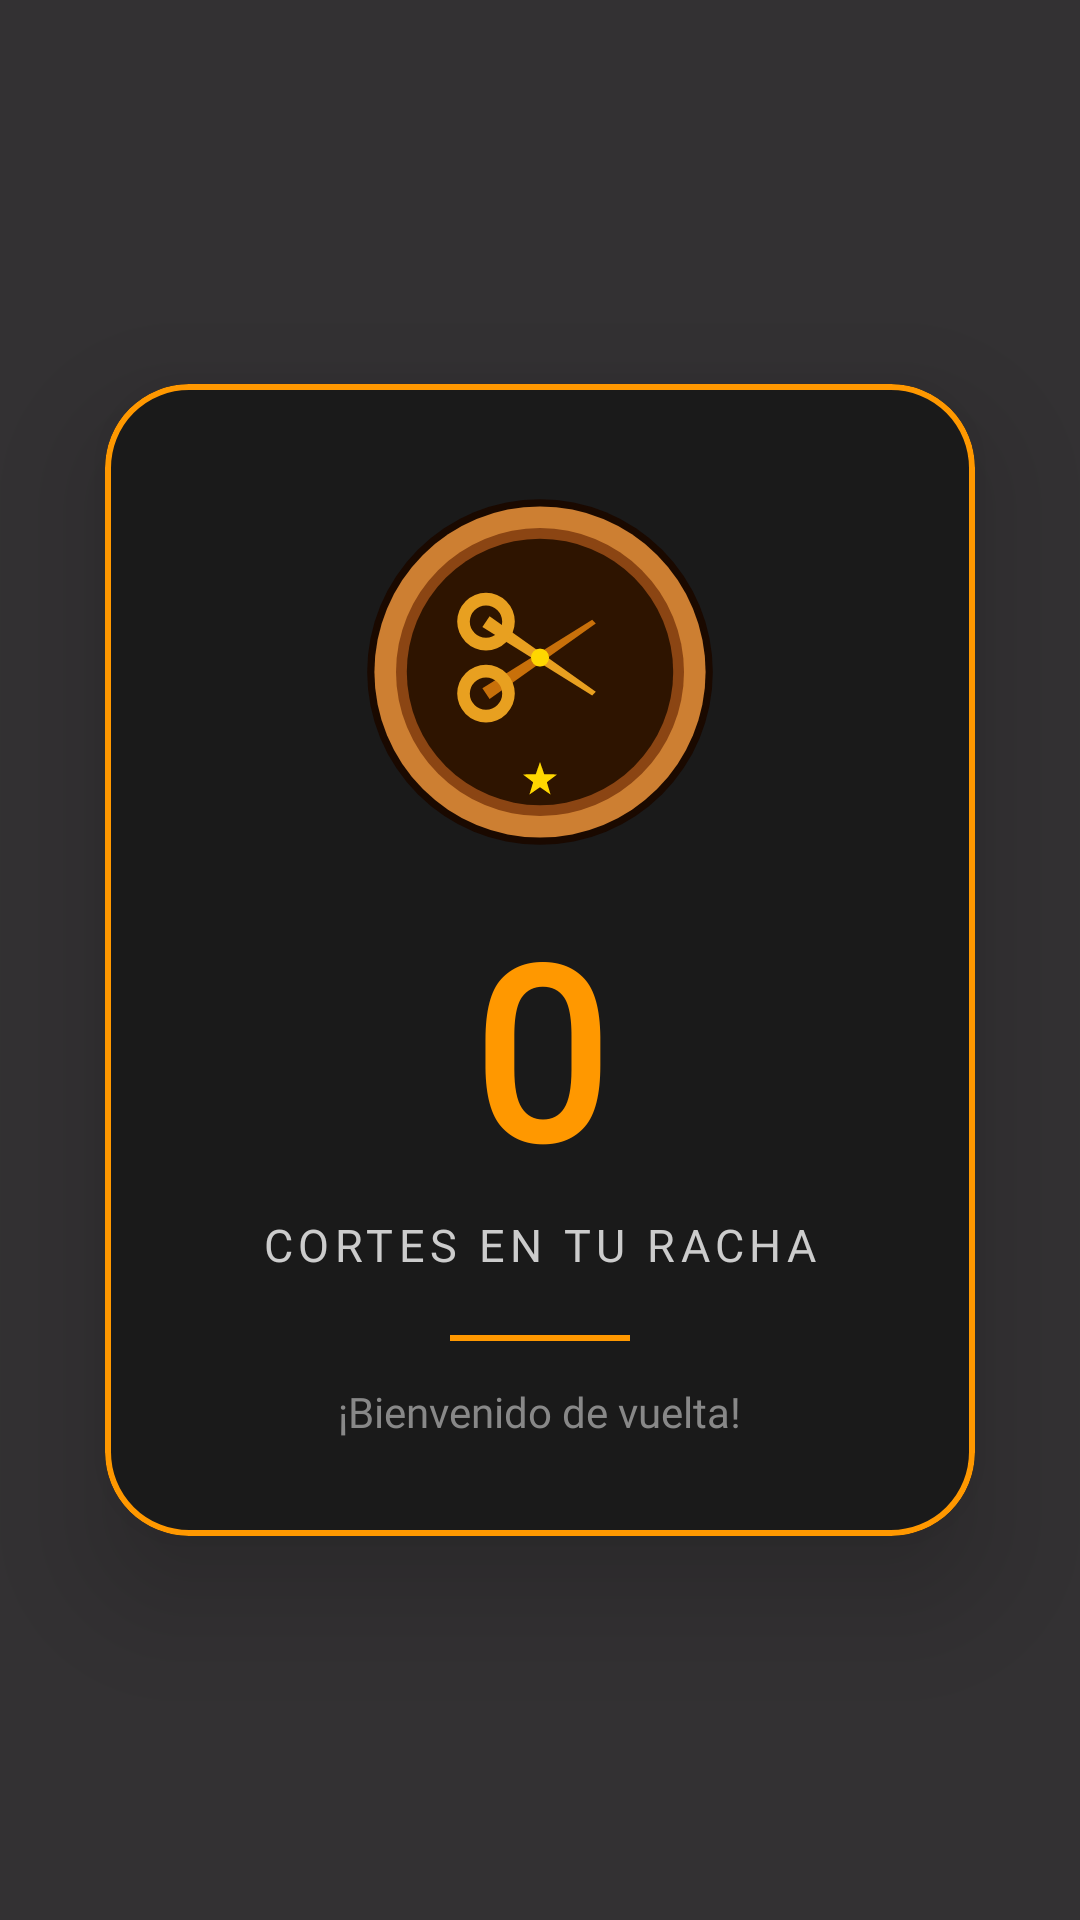

Point at icon controls on the screen. Image size 1080 x 1920, points as [x,y].
Racha badge: [540,672]
